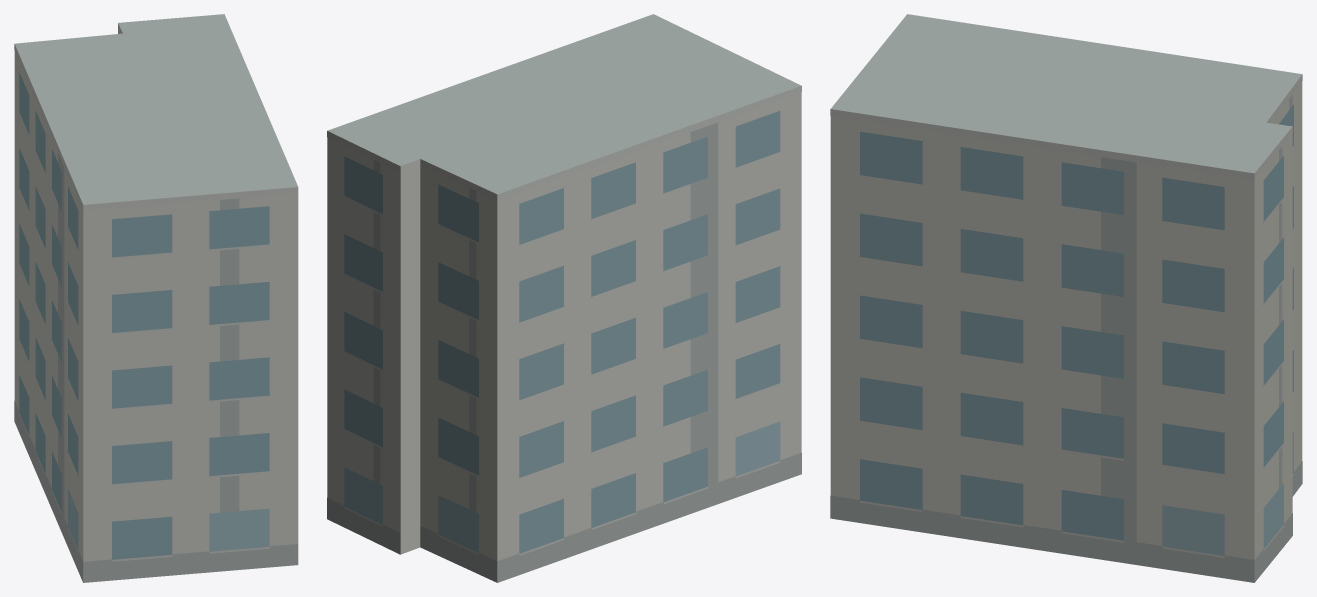
Rendered from survey-upis-33025065.glb.
The picture shows the model from 3 angles, left to right: view 1: azimuth 30°, elevation 25°; view 2: azimuth 150°, elevation 25°; view 3: azimuth 270°, elevation 25°; orthographic projection. The views are drawn at different scales.
Visible parts, largest first — view 1: survey-upis-33025065.tmp; view 2: survey-upis-33025065.tmp; view 3: survey-upis-33025065.tmp.
Boxes of the visible parts, <box> form: survey-upis-33025065.tmp: <box>14,14,298,582</box>; survey-upis-33025065.tmp: <box>327,14,801,582</box>; survey-upis-33025065.tmp: <box>830,14,1302,582</box>.
Bounding box in the file's own units: 11.86 × 14.2 × 14.84.
